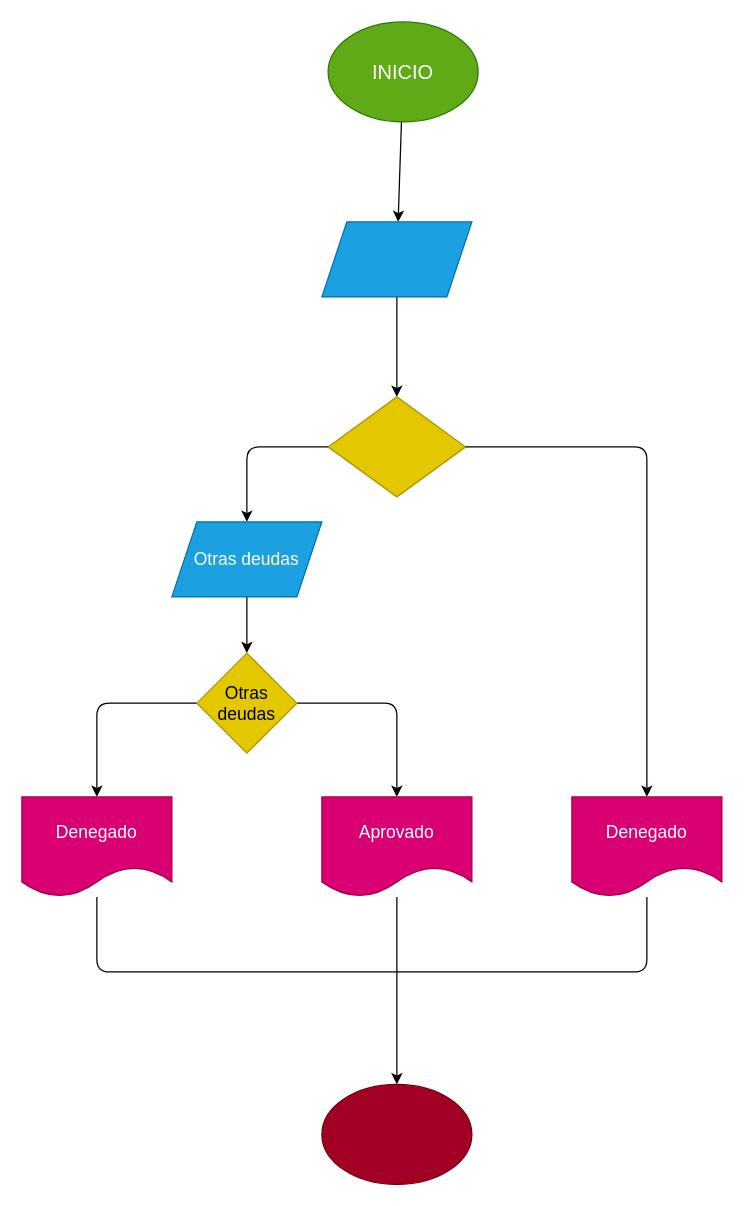
Image size: 744x1206. Some labels were removed from this diagram. The centre of each missing label's shape, as x and y in pixels:
"FIN" belongs at point 396,1133.
"Ingresos" belongs at point 396,259.
"Ingresos>= $945.200" belongs at point 396,446.
